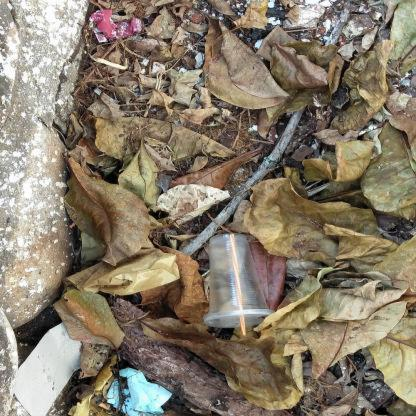Carton: (14, 322, 82, 416)
Cigarette: (97, 400, 111, 410)
Cup: (203, 234, 275, 328)
Lid: (203, 309, 275, 328)
Other litter: (67, 239, 180, 297)
Paper: (107, 368, 173, 416), (88, 10, 143, 43)
Straw: (229, 234, 247, 336)
